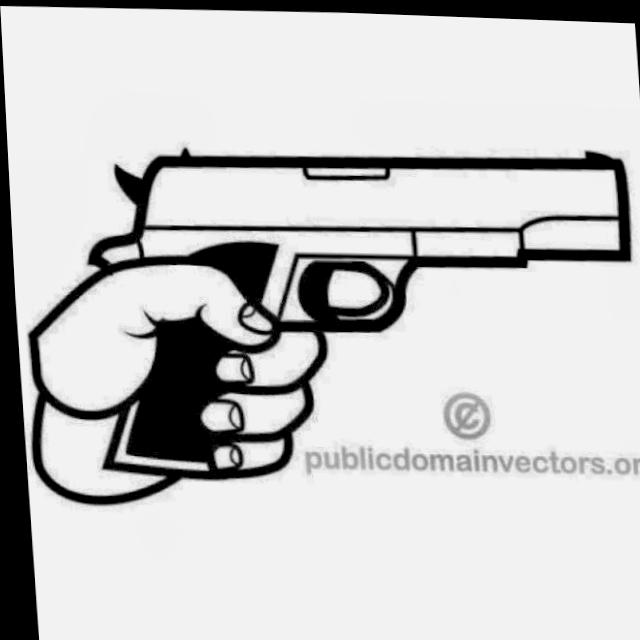pistol: (78, 128, 640, 487)
